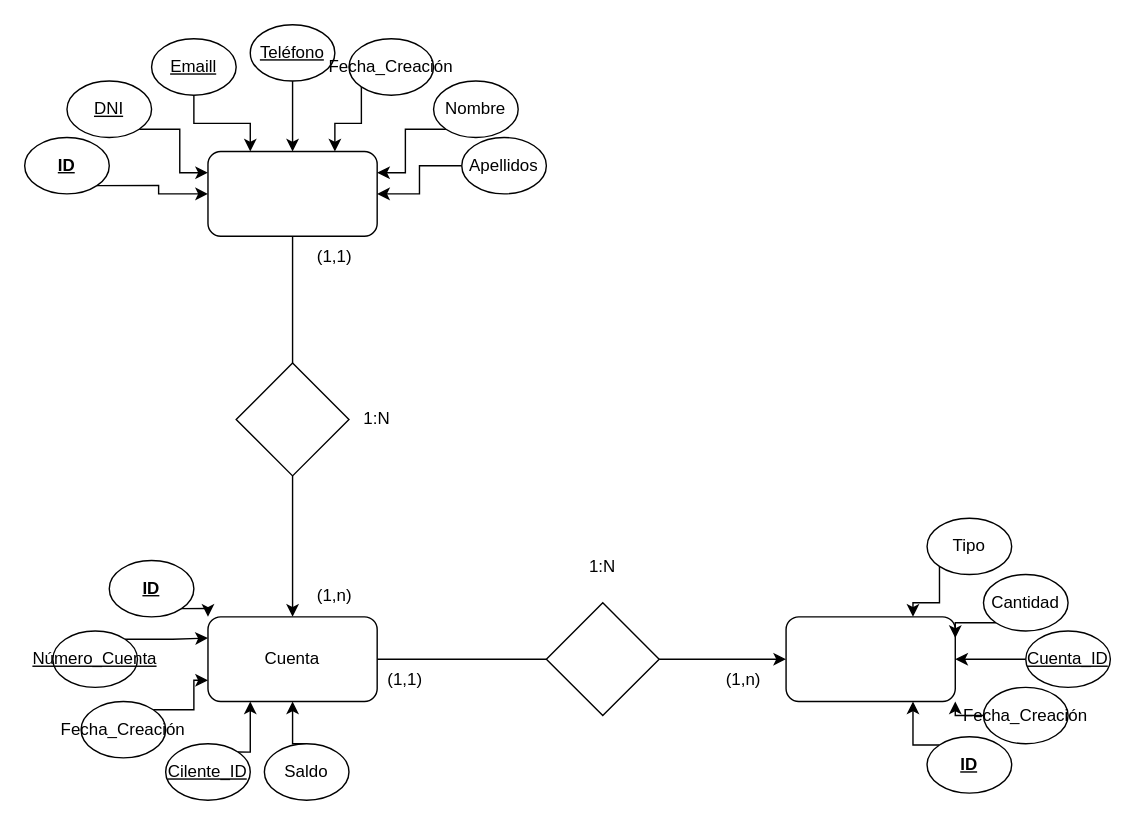
Image size: 1135x825. Some labels were removed from this diagram. Each missing label, with the centre of its shape:
"Cliente" belongs at point 292,193.
"Contiene" belongs at point 602,658.
"Movimiento" belongs at point 870,658.
"Tiene" belongs at point 292,419.
